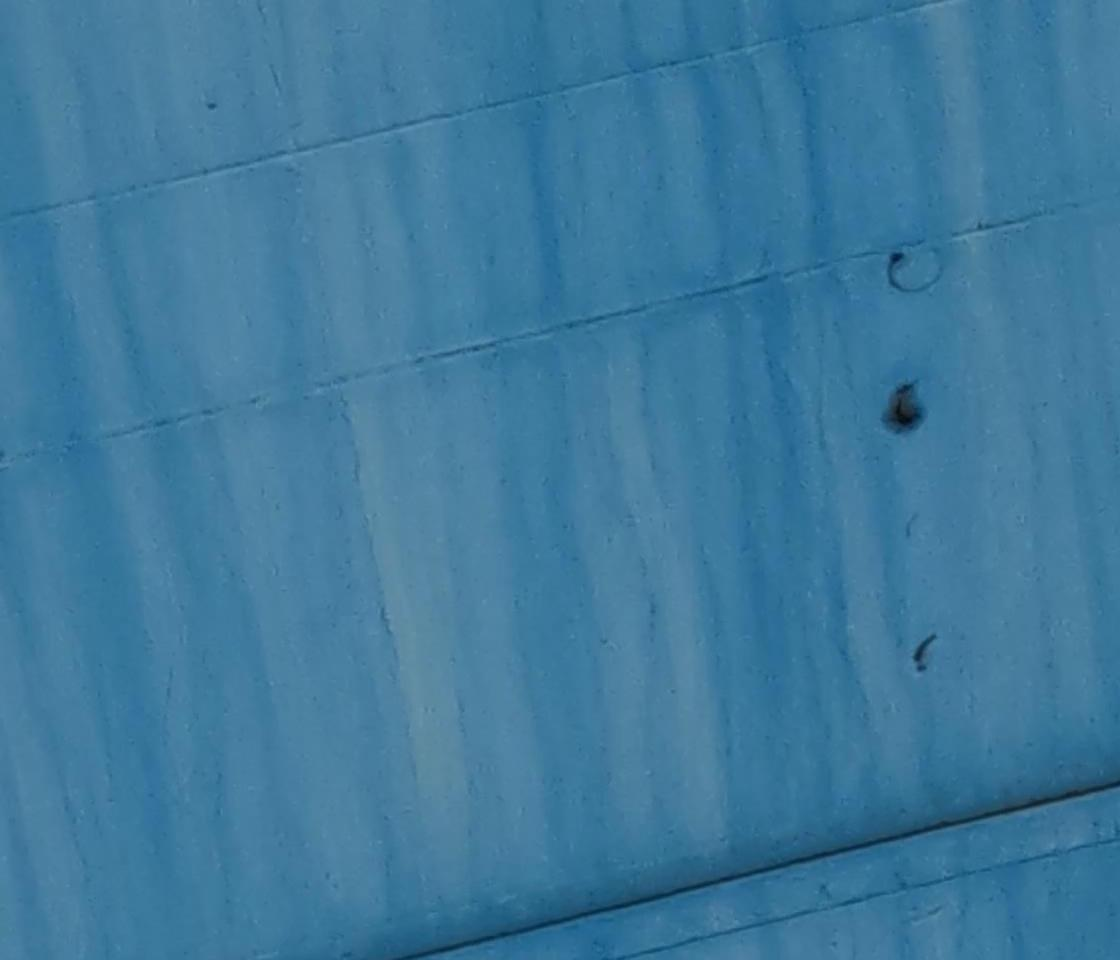scratch: (905, 626, 946, 682)
